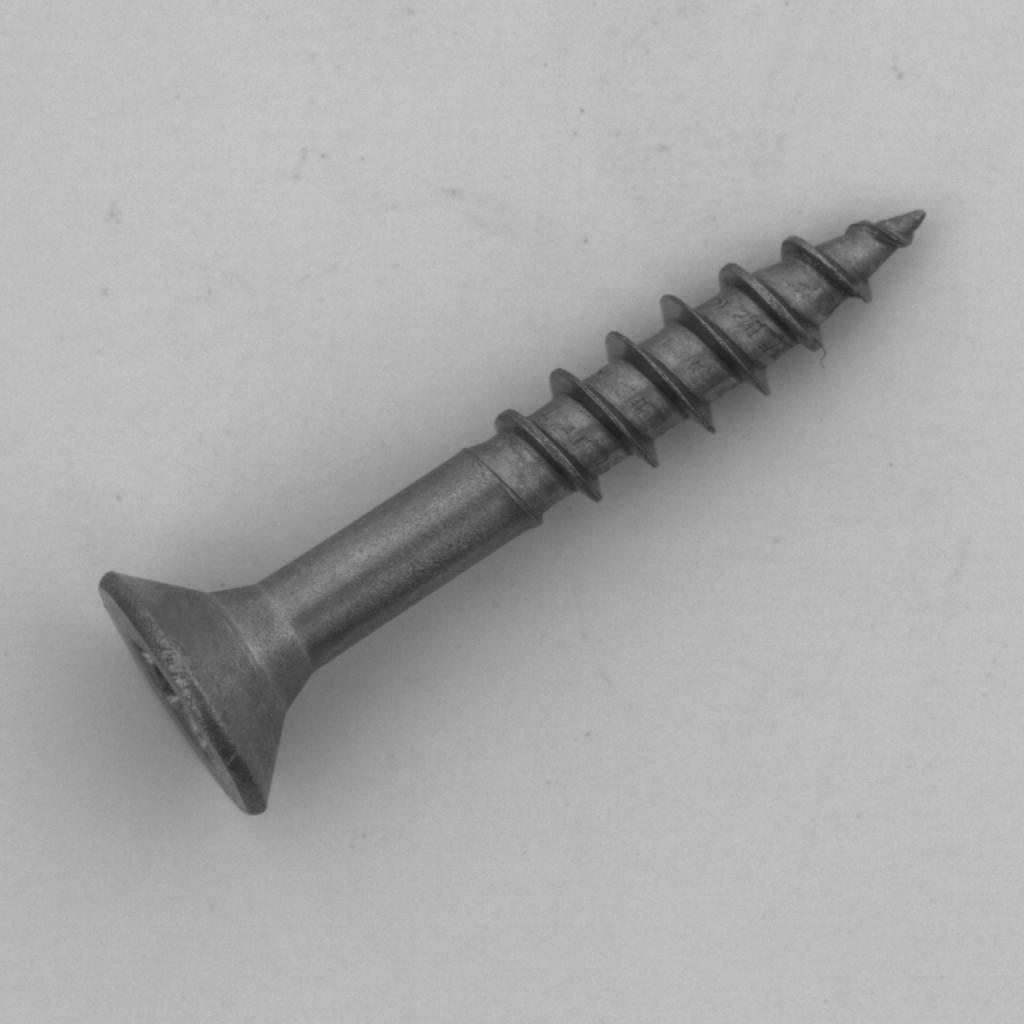good: (83, 188, 945, 841)
